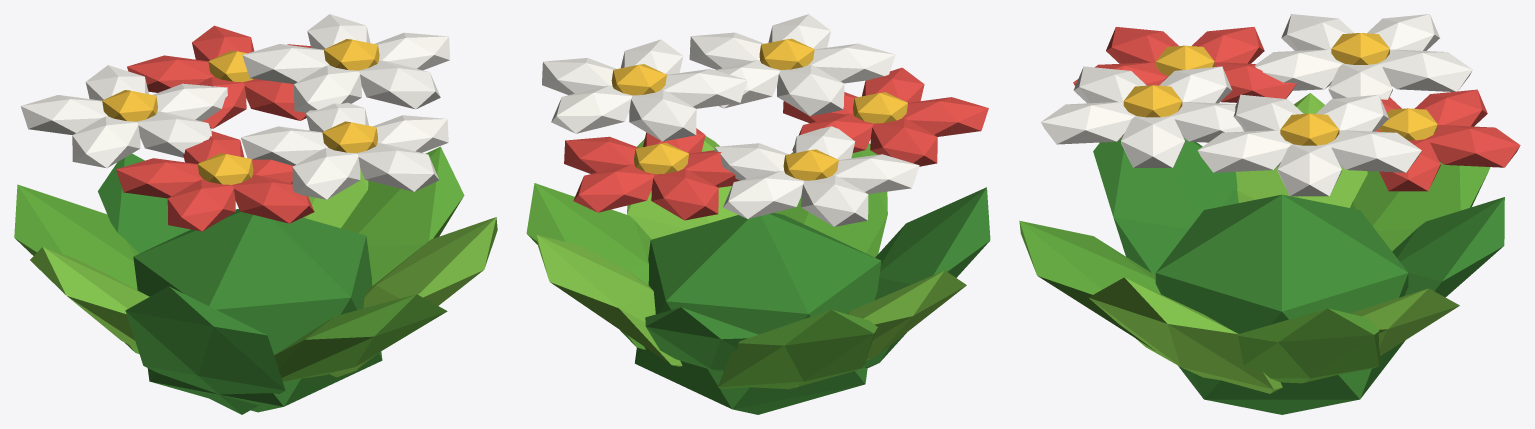
Rendered from flower_clump.glb.
3 renders of one model, left to right at view 1: azimuth 30°, elevation 25°; view 2: azimuth 150°, elevation 25°; view 3: azimuth 270°, elevation 25°, orthographic. The views are drawn at different scales.
Visible parts, largest first — view 1: flower_clump; view 2: flower_clump; view 3: flower_clump.
Boxes of the visible parts, <box> form: flower_clump: <box>14,14,497,414</box>; flower_clump: <box>526,14,990,414</box>; flower_clump: <box>1019,14,1520,414</box>.
Size of the model in its own units: 0.3688 by 0.2919 by 0.3711.
